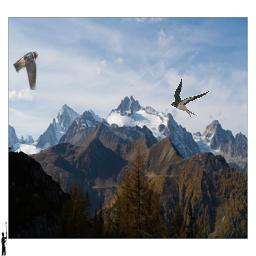Swallow: (170, 78, 209, 118), (13, 50, 38, 90)
